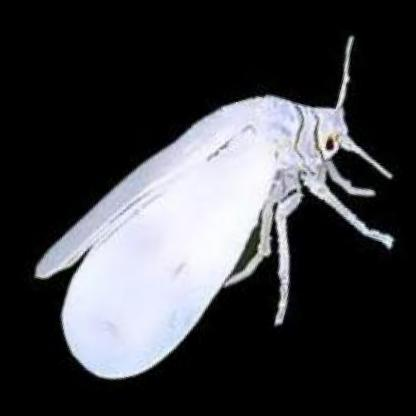whitefly: (35, 42, 391, 380)
